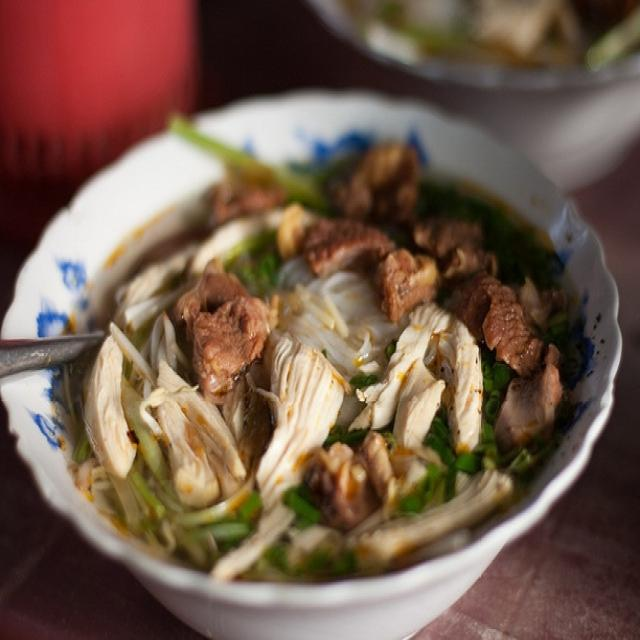面条主食: (11, 44, 628, 629)
